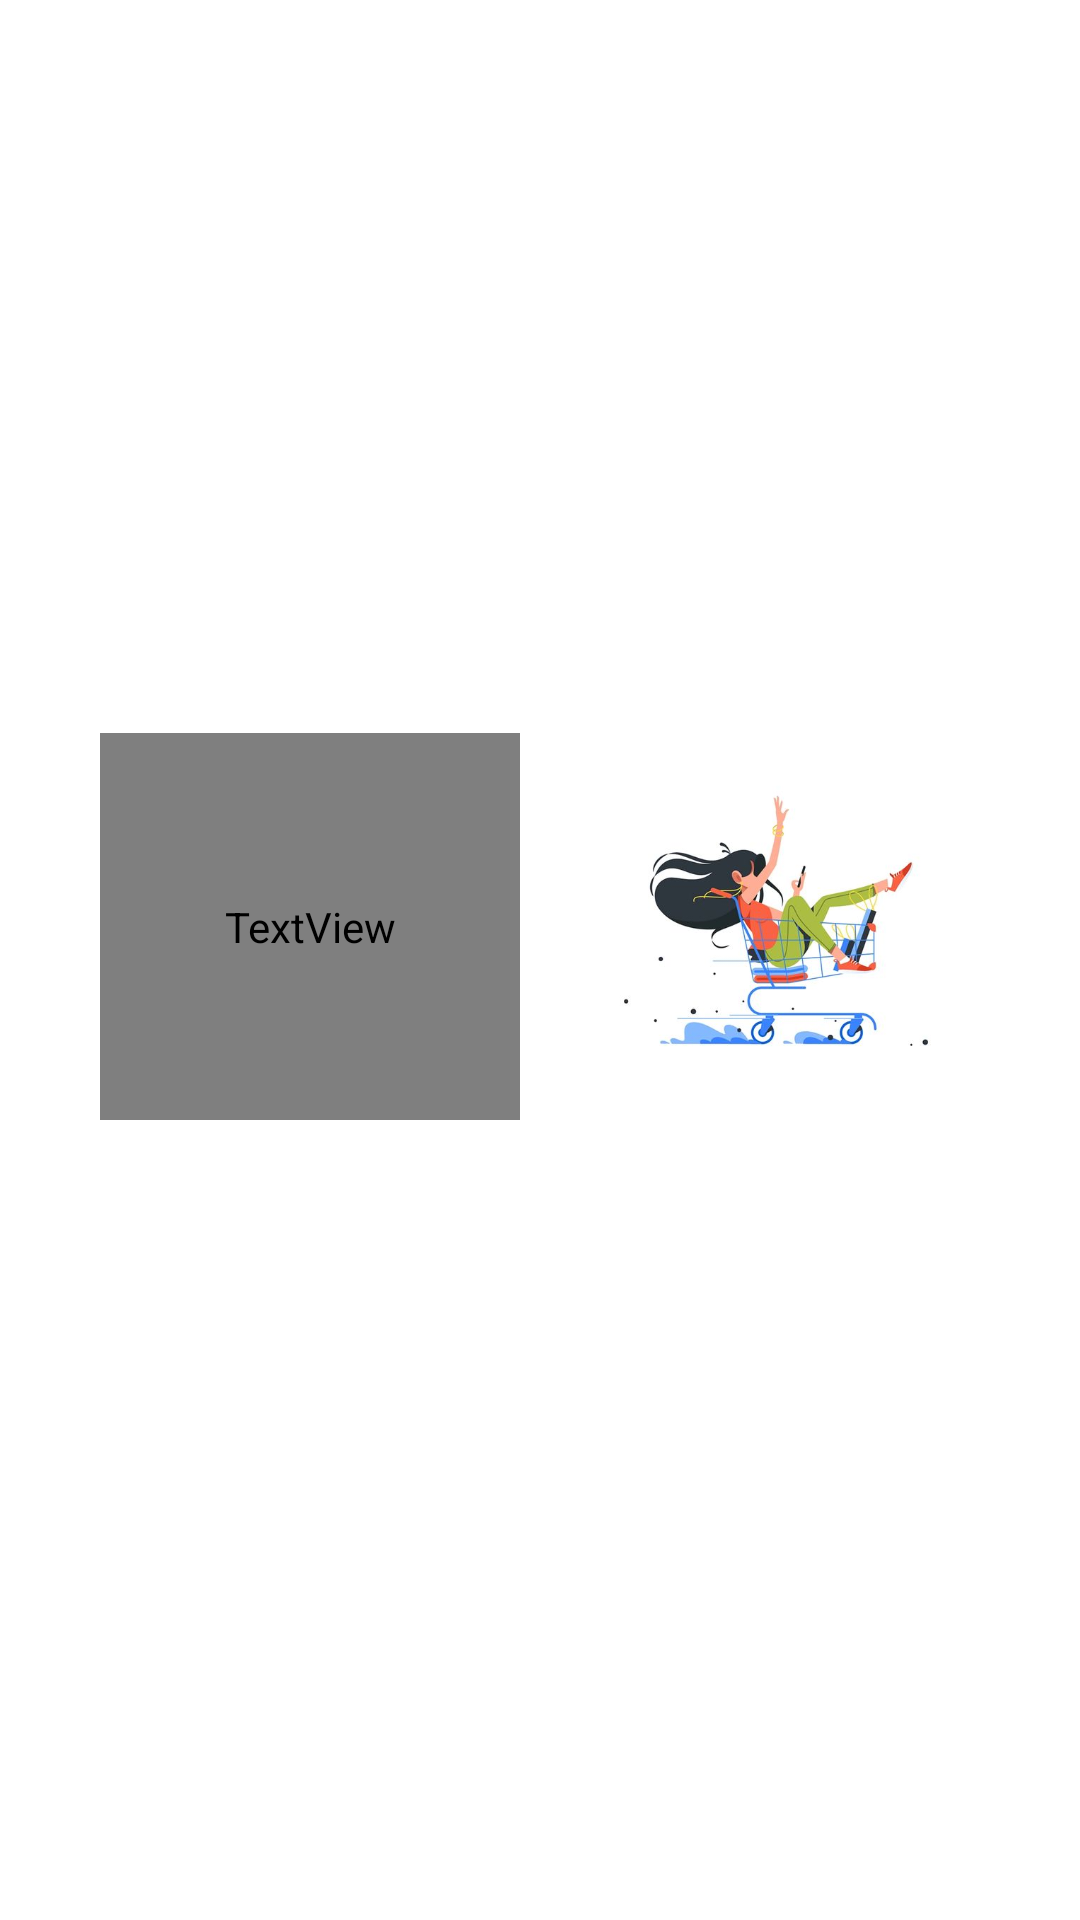

Screen size 1080w x 1920h. Icon name, then its center in pixels as (x,y):
shopping cart: (776,921)
